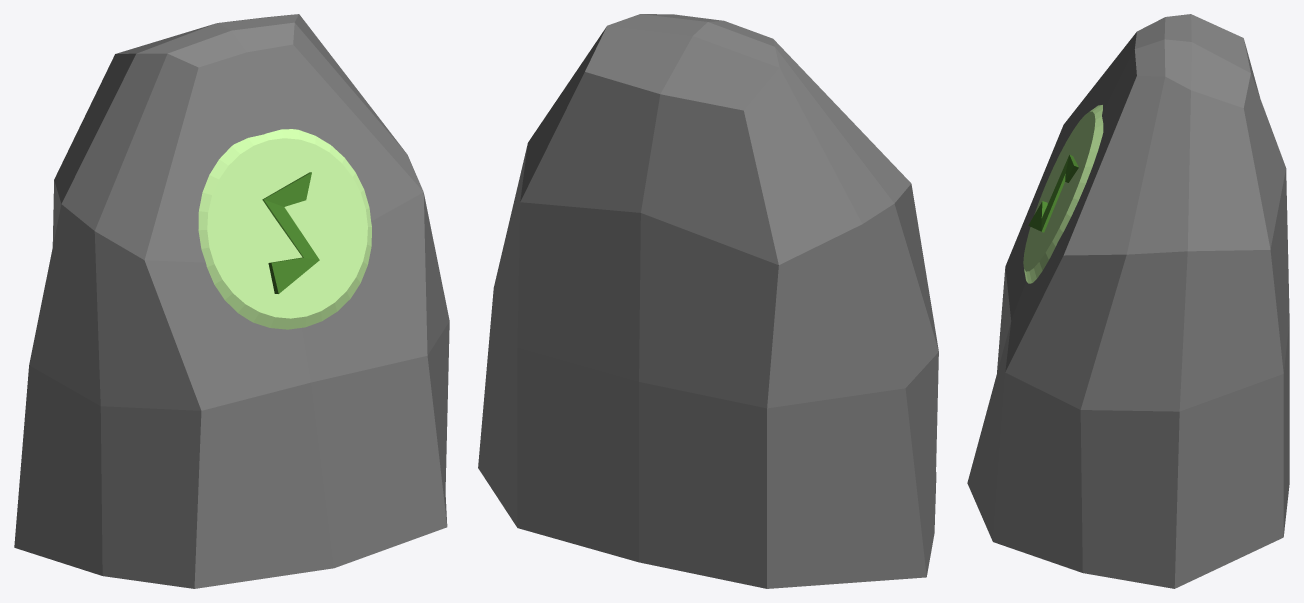
The model's file is rune-vert.fbx.
3 views of the same model, side by side, from view 1: azimuth 30°, elevation 25°; view 2: azimuth 150°, elevation 25°; view 3: azimuth 270°, elevation 25° (orthographic). The views are drawn at different scales.
Parts seen in each view (by area): view 1: Cube; view 2: Cube; view 3: Cube.
Boxes of the visible parts, x1=… form: Cube: x1=14, y1=14, x2=449, y2=588; Cube: x1=478, y1=14, x2=938, y2=588; Cube: x1=967, y1=14, x2=1289, y2=588.
Bounding box in the file's own units: 260 × 277 × 178.
